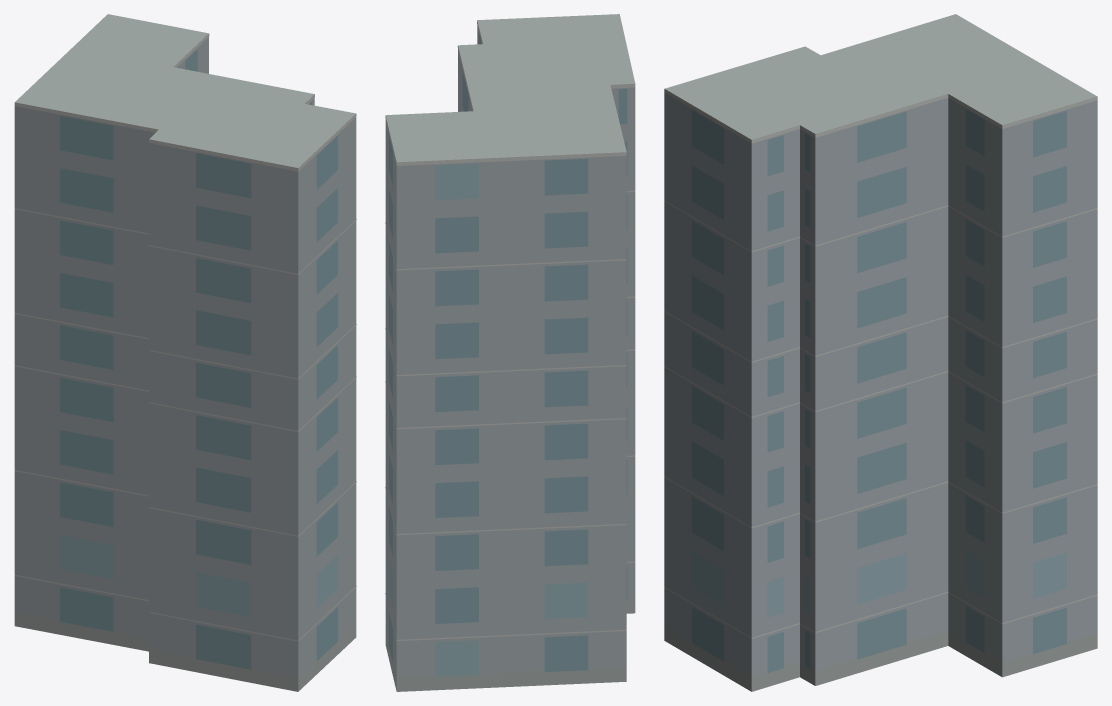
File: survey-upis-32569260.glb
3 renders of one model, left to right at view 1: azimuth 30°, elevation 25°; view 2: azimuth 150°, elevation 25°; view 3: azimuth 270°, elevation 25°, orthographic. The views are drawn at different scales.
Parts seen in each view (by area): view 1: survey-upis-32569260.tmp; view 2: survey-upis-32569260.tmp; view 3: survey-upis-32569260.tmp.
Boxes of the visible parts, <box> form: survey-upis-32569260.tmp: <box>14,14,356,691</box>; survey-upis-32569260.tmp: <box>385,14,635,691</box>; survey-upis-32569260.tmp: <box>664,14,1097,691</box>.
Size of the model in its own units: 17.04 by 34.8 by 24.76.
